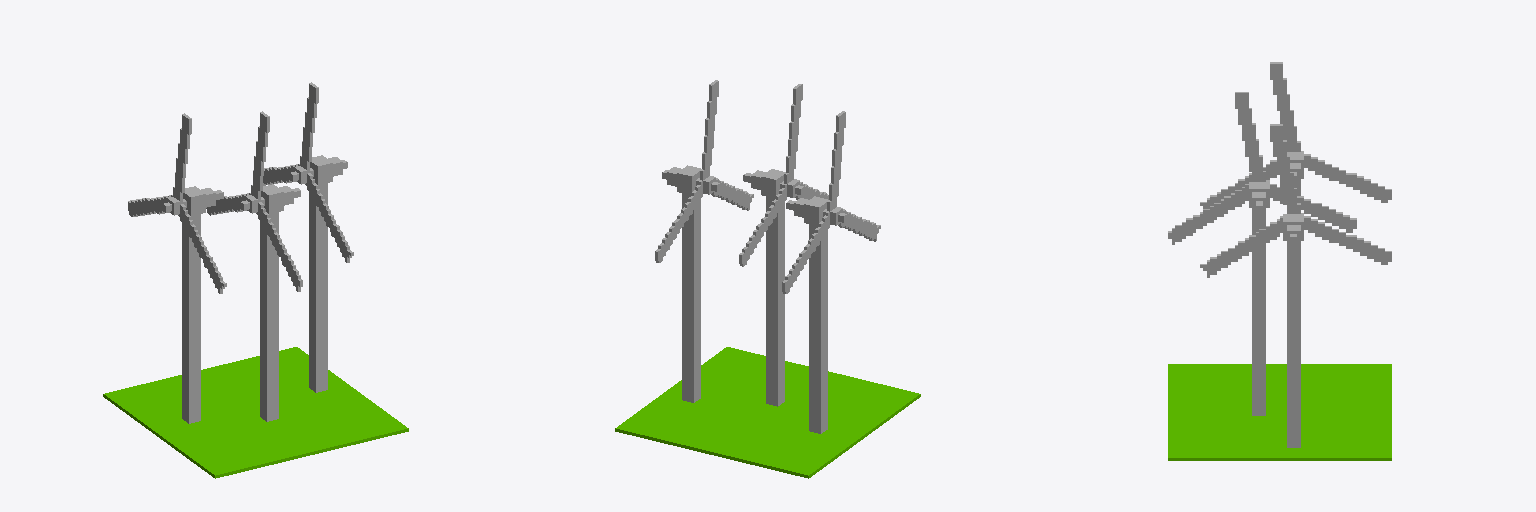
3 views of the same model, side by side, from view 1: azimuth 30°, elevation 25°; view 2: azimuth 150°, elevation 25°; view 3: azimuth 270°, elevation 25° (orthographic).
Parts seen in each view (by area): view 1: object 1; view 2: object 1; view 3: object 1.
Part boxes in pixels (bbox=[...]): object 1: bbox=[103, 82, 408, 478]; object 1: bbox=[615, 80, 920, 478]; object 1: bbox=[1168, 62, 1391, 460].
Size of the model in its own units: 6.4 by 10 by 6.4.
Materials: 1 (1 with a texture image).